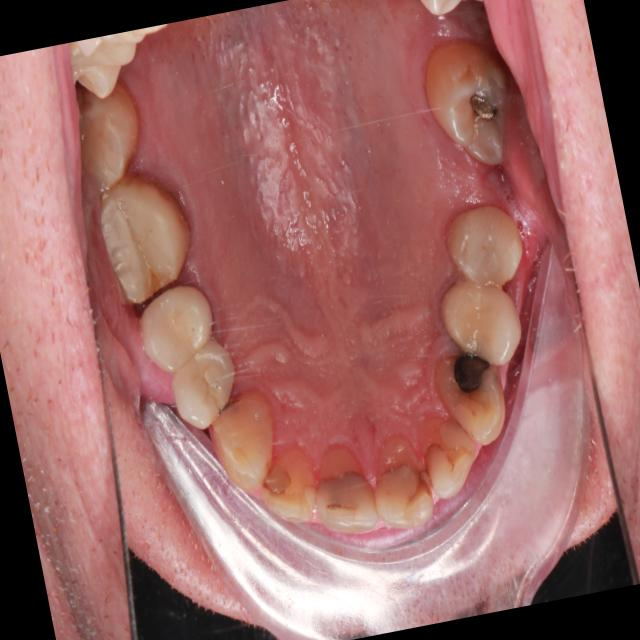tooth: (79, 151, 216, 322), (406, 11, 530, 193), (419, 253, 541, 397), (186, 376, 303, 525), (145, 319, 263, 450), (117, 267, 239, 391), (57, 65, 160, 207), (292, 419, 393, 561), (431, 186, 544, 307), (359, 414, 456, 552), (422, 330, 526, 458), (246, 411, 337, 552), (415, 405, 505, 522)
